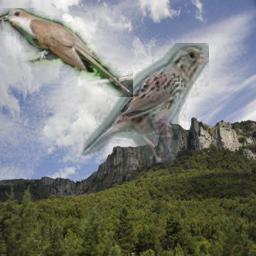Cuckoo: (0, 8, 133, 97)
Sparrow: (82, 43, 209, 163)
